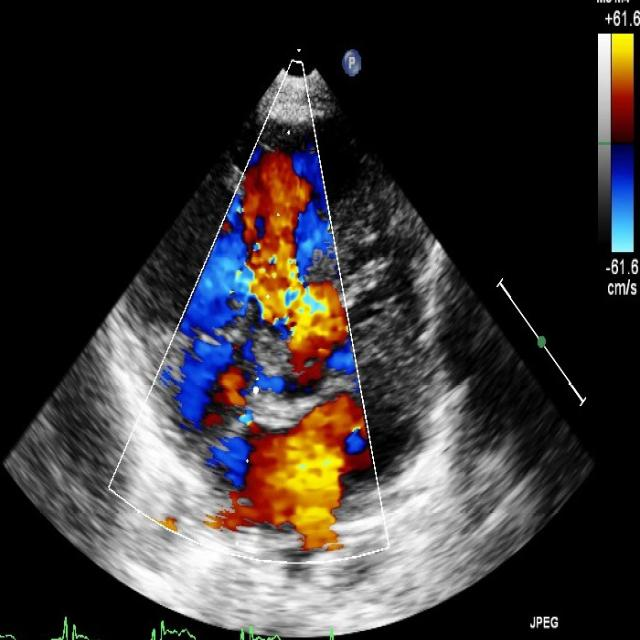VSDType2: (251, 252, 356, 380)
